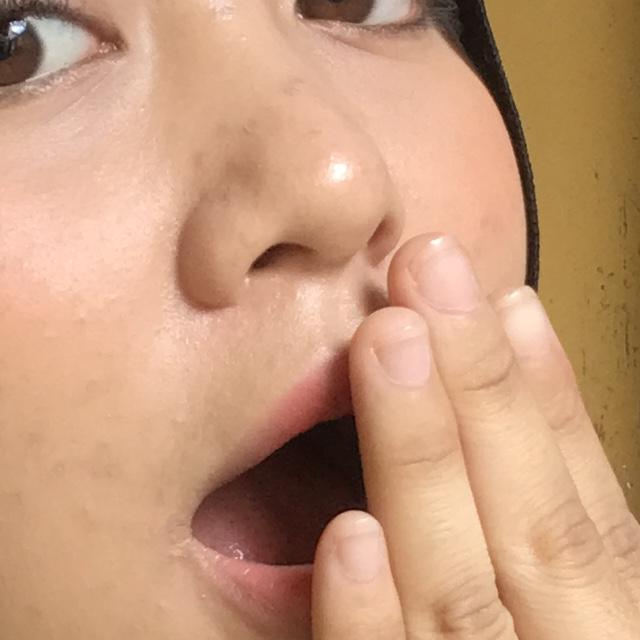ngantuk: (120, 166, 640, 640)
